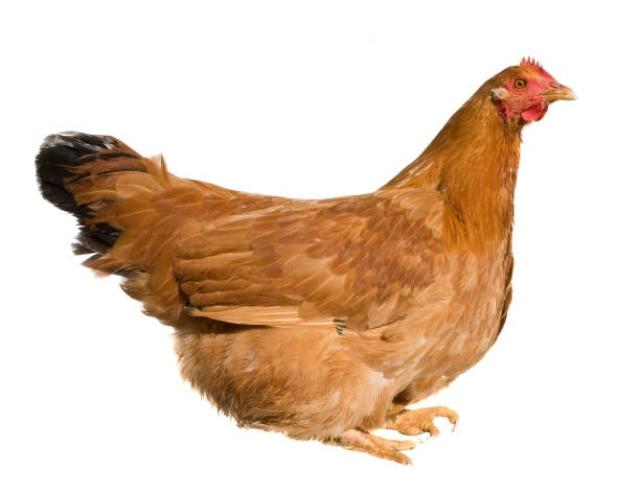Chicken: (38, 54, 579, 470)
